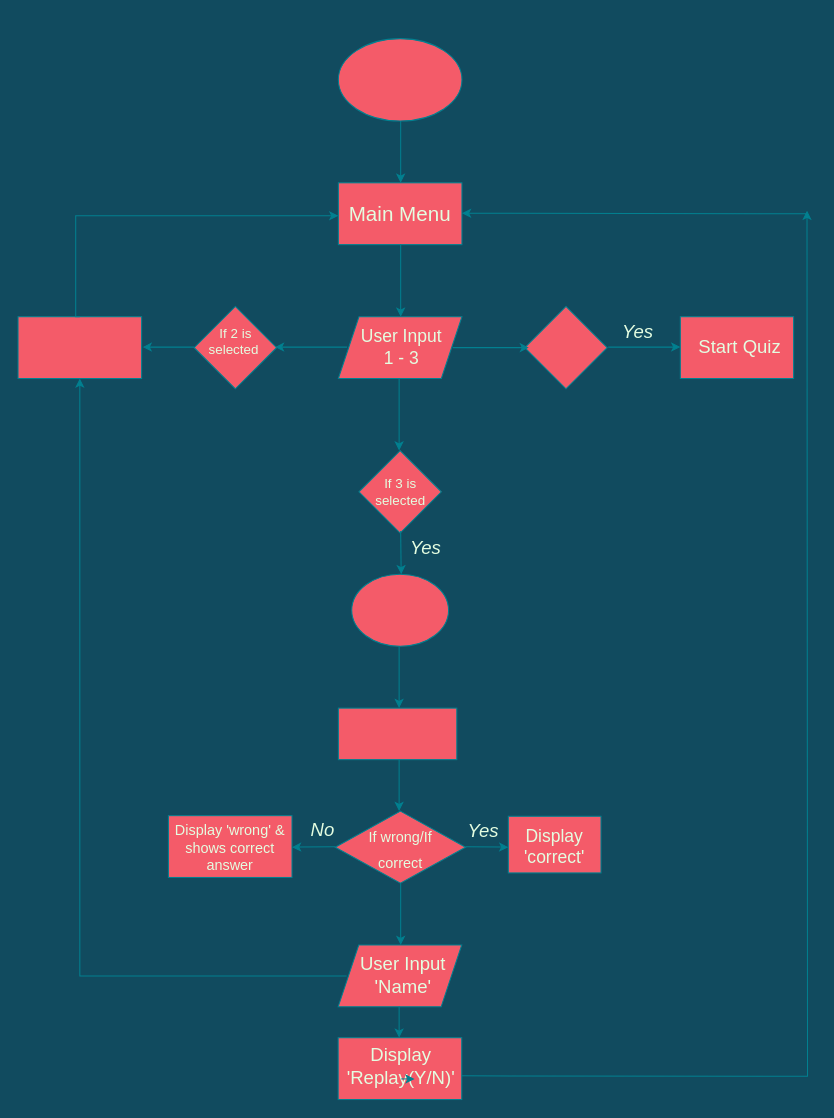
The diagram is 834 pixels wide and 1118 high, and some of its shapes have lost their labels. The box of each missing label's shape, as (x1, y1, x2, y2) in pixels:
Display Scoreboard: (17, 316, 142, 379)
If 1 is selected: (524, 305, 607, 389)
Play Quiz: (337, 707, 457, 760)
Start Program: (337, 38, 462, 121)
Stop: (351, 573, 449, 646)
